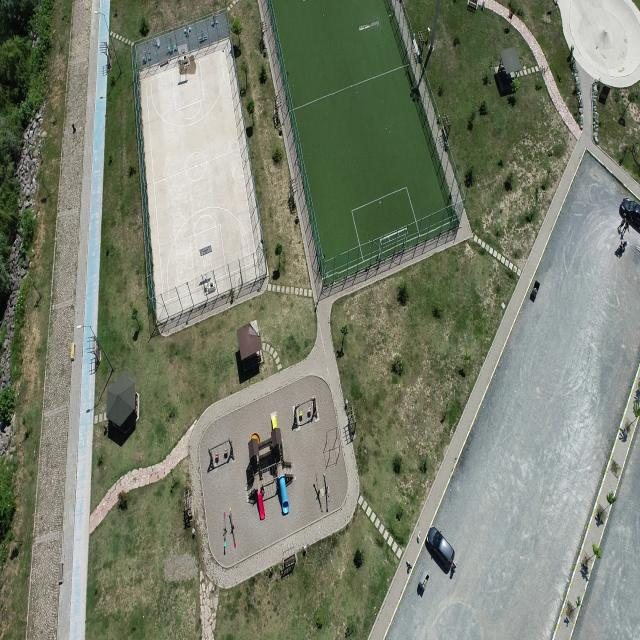p3rson: (617, 218, 626, 231), (621, 220, 629, 233), (451, 560, 457, 572)
